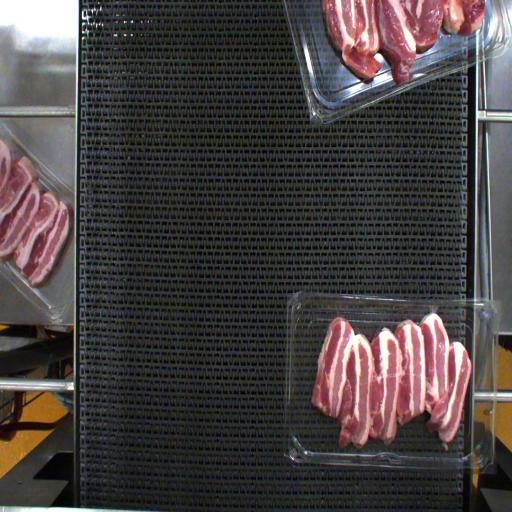packaging-error: (425, 293, 440, 326)
